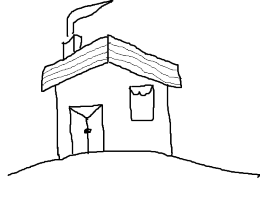door: (65, 103, 109, 156)
open_window: (128, 84, 154, 121)
roof: (40, 33, 181, 92)
smoking_chimney: (58, 0, 124, 60)
wall: (52, 62, 174, 160)
